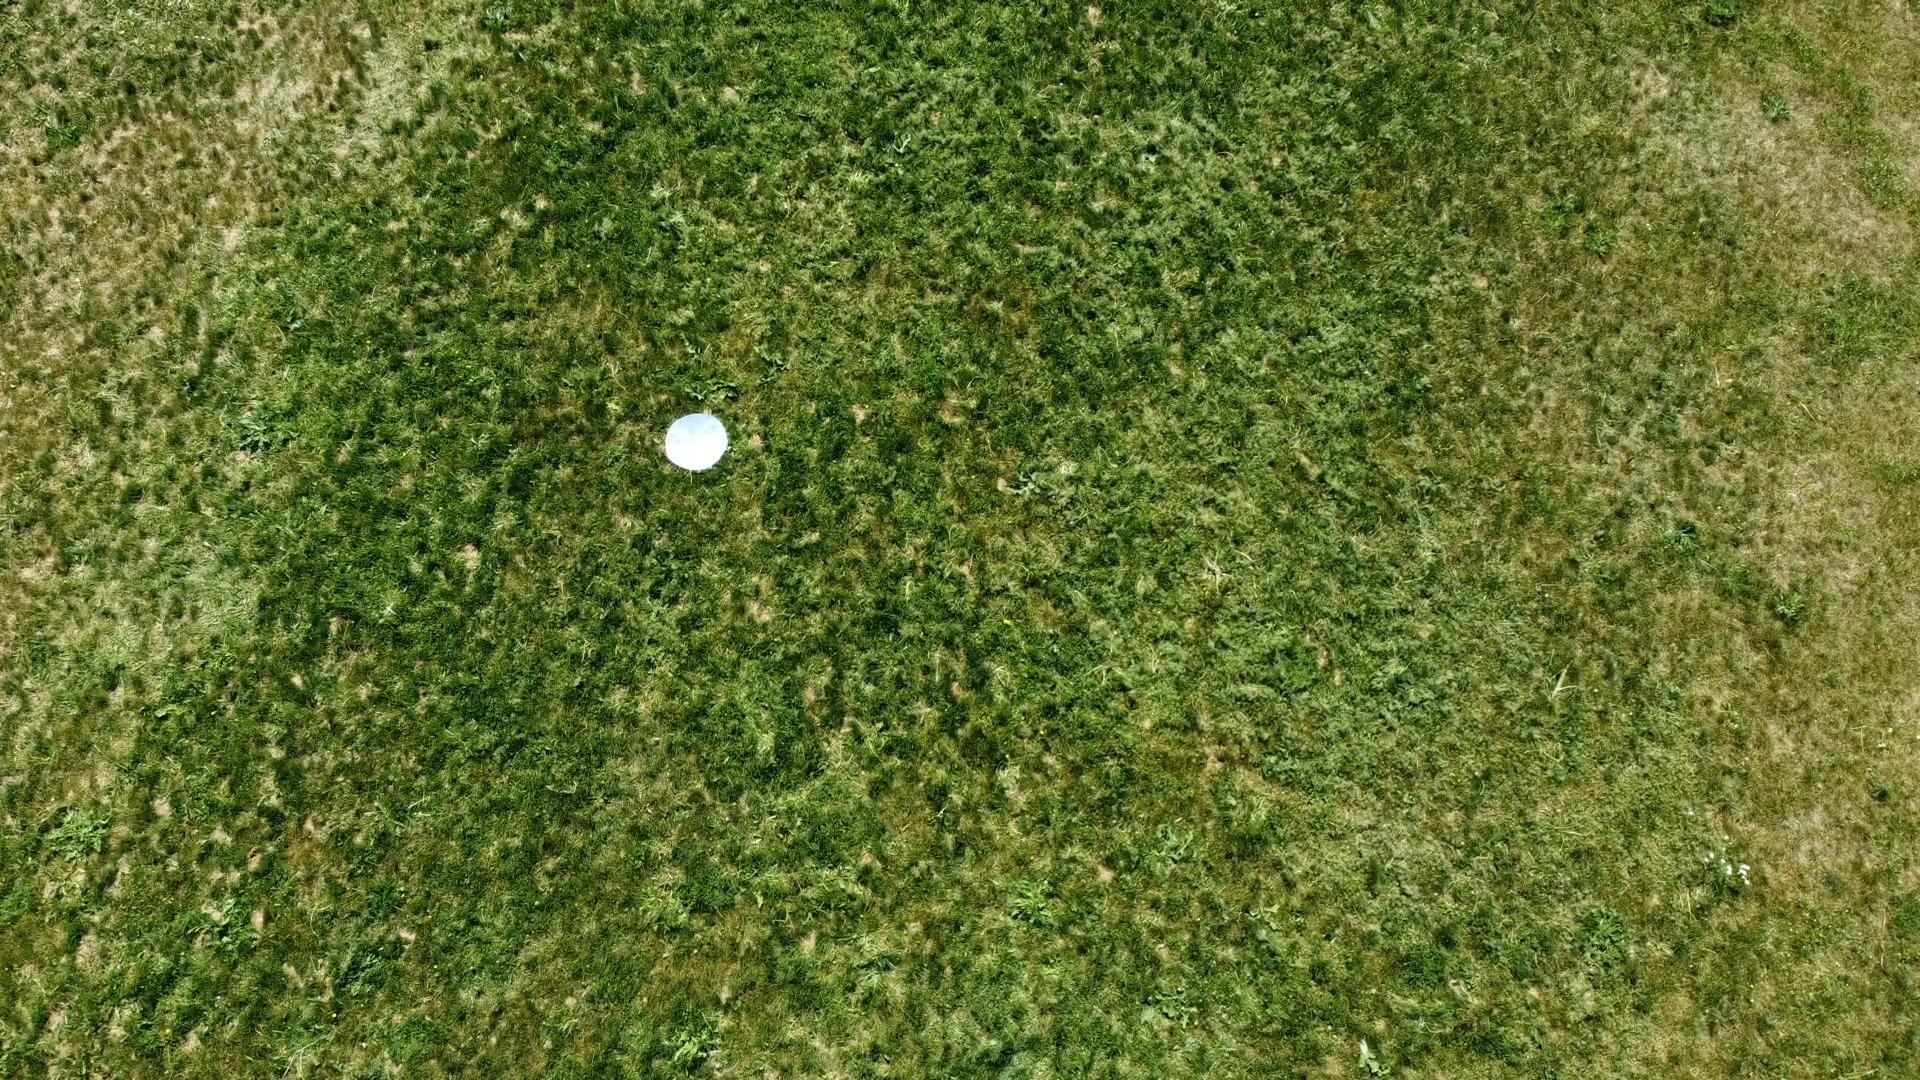Blue: (662, 410, 731, 473)
